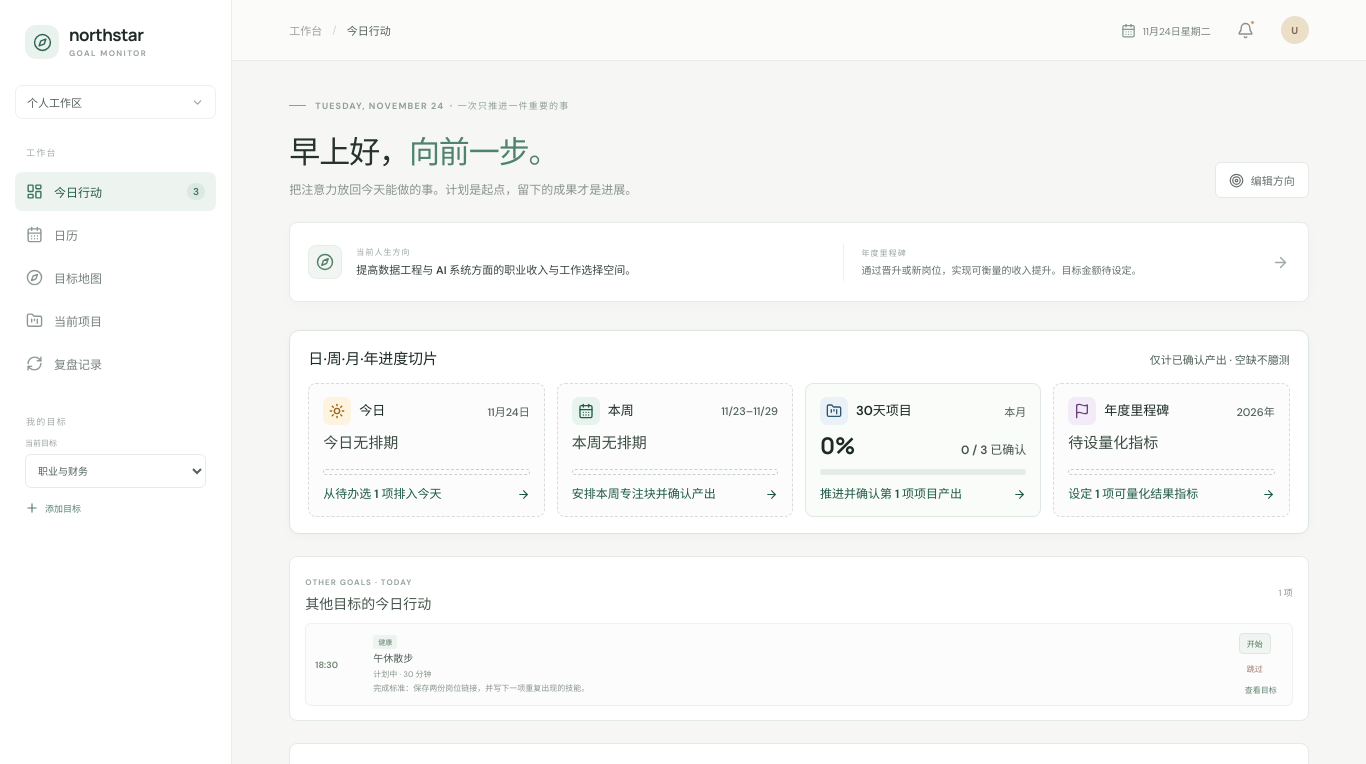
Test: Goal Monitor first-run flows › shows today actions from other goals and writes progress only to that workspace
The width and height of the screenshot is (1366, 764).
Expected: the text "午休散步" is shown, [373,652,413,665]
Step 1. Click the button "开始" → [1255, 644], box [1239,633,1271,654]
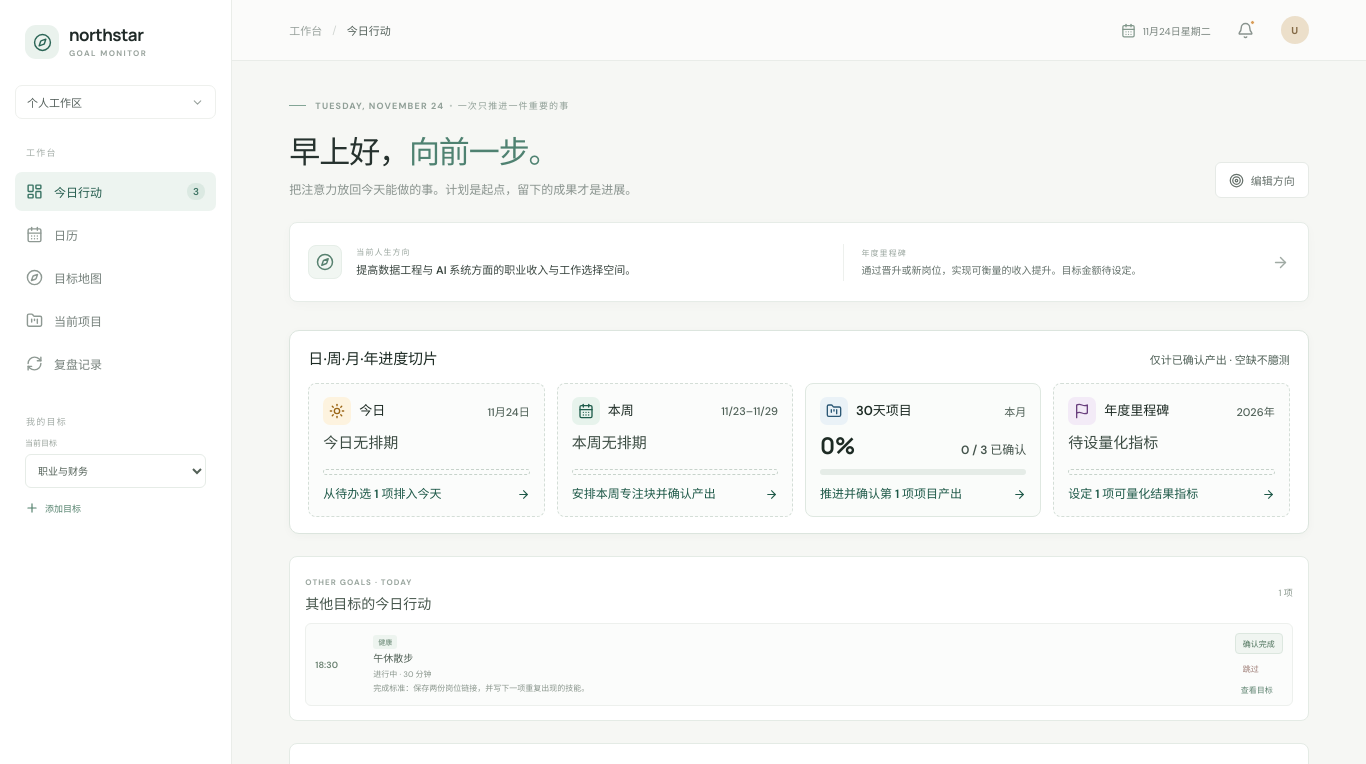
Now the text "进行中 · 30 分钟" is shown, box [373,669,432,679]
Step 2. Click the button "确认完成" → [1259, 644], box [1235,633,1283,654]
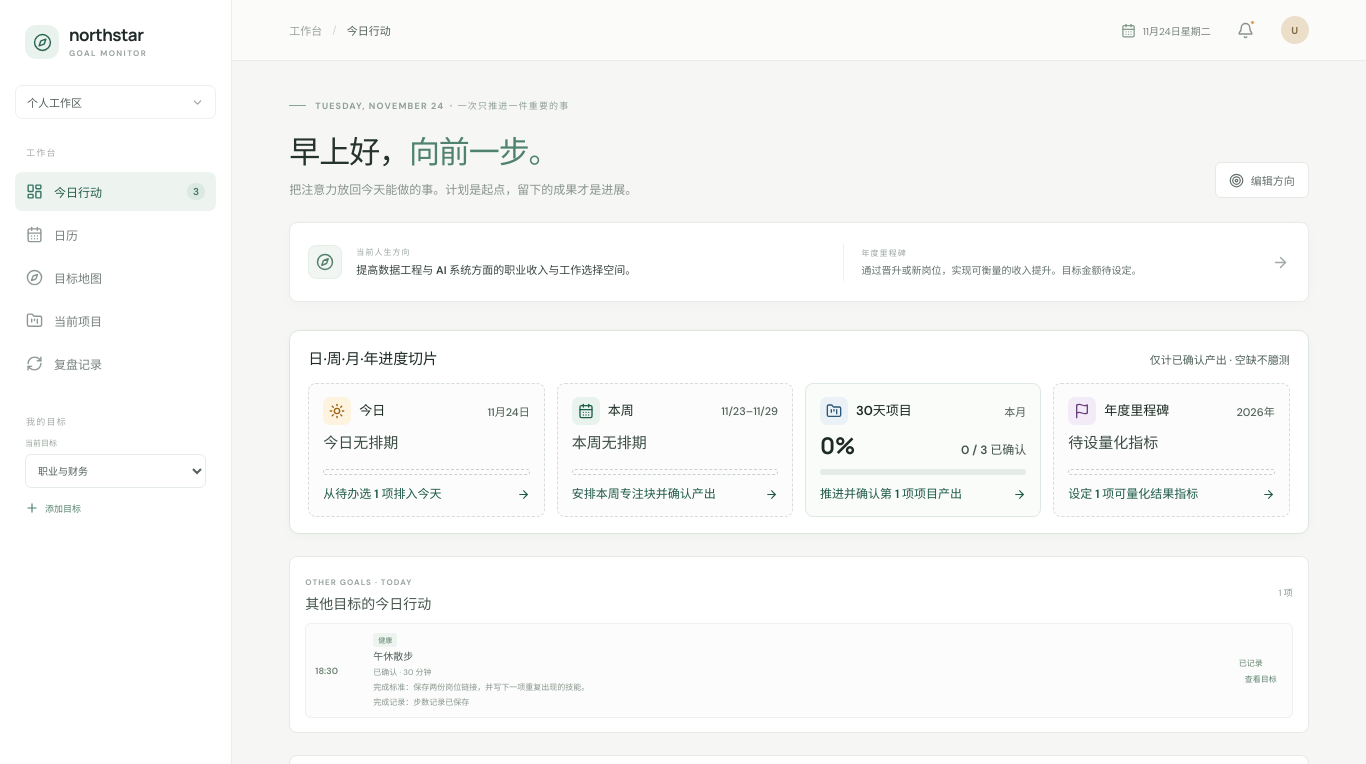
Now the text "完成记录：步数记录已保存" is shown, box [373,697,469,707]
